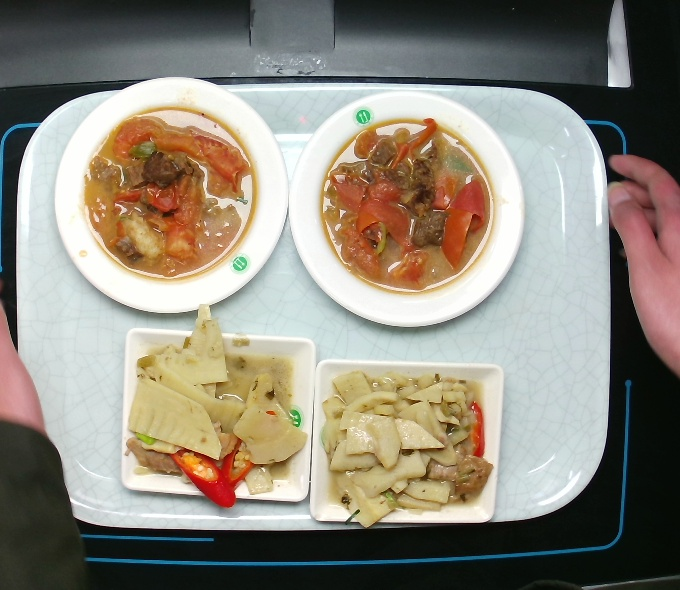wcq-DongSun: (125, 345, 305, 500), (311, 363, 491, 518)
wcq-FanQiwNiuRou: (315, 115, 508, 309), (80, 91, 273, 285)
